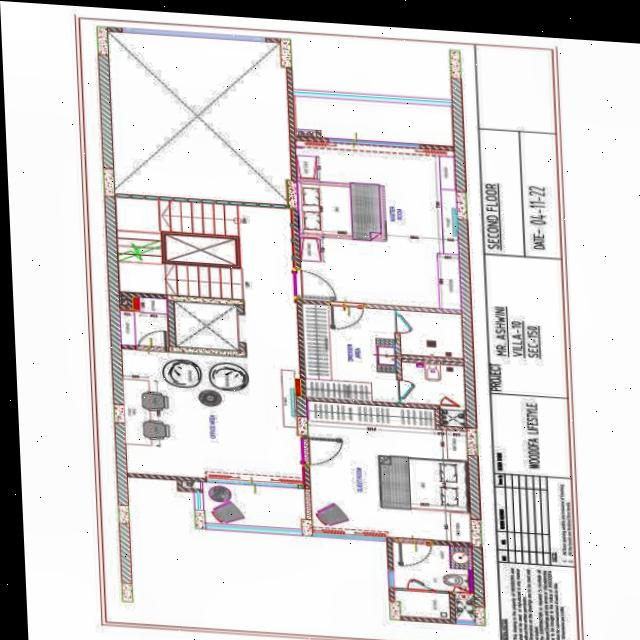room: (110, 348, 315, 527), (97, 30, 296, 204), (295, 132, 461, 315), (297, 400, 479, 542), (302, 299, 397, 406), (391, 541, 475, 619), (400, 360, 472, 427), (172, 299, 241, 349), (397, 309, 466, 357), (120, 296, 167, 348)
